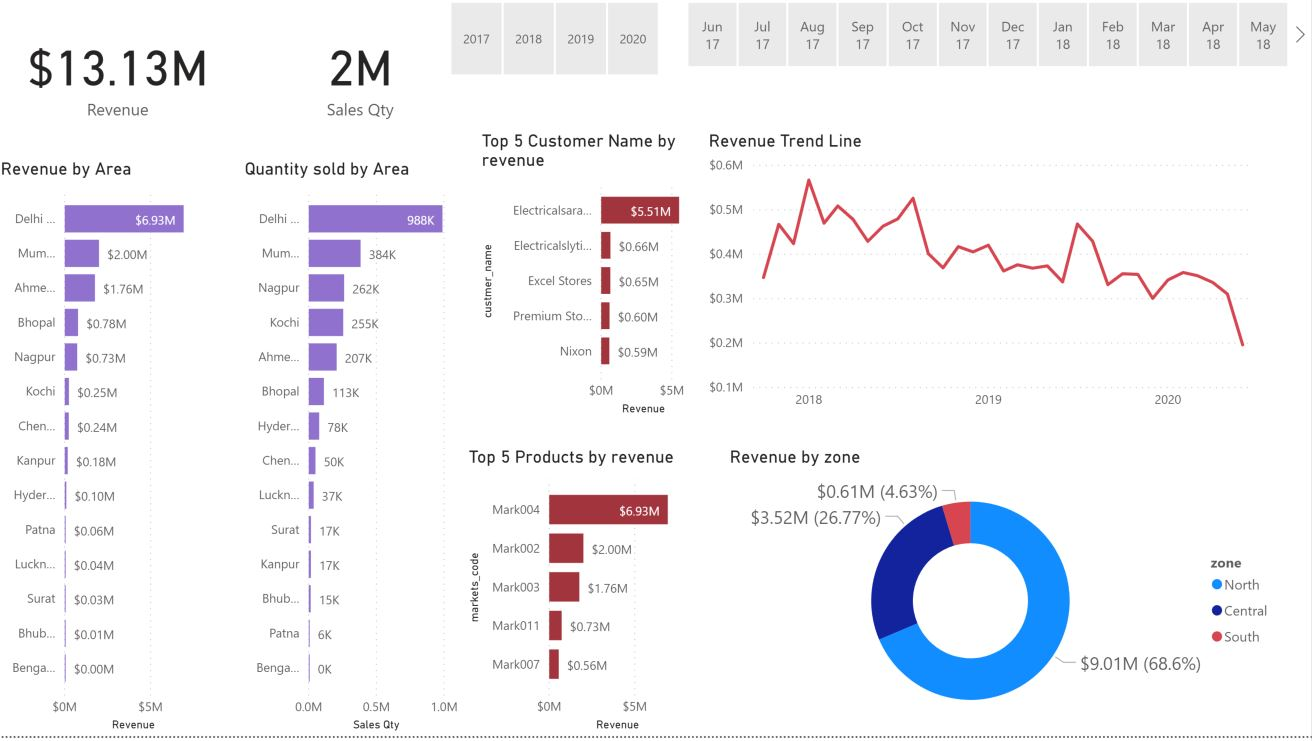

What the dashboard file says about the page in this screenshot:
{"tool":"powerbi","page":{"name":"Page 1","canvas":[1280,720],"ordinal":0},"visuals":[{"type":"card","fields":{"Values":["Base measures.Revenue"]},"box":[0,0,168.3,150.8],"z":0},{"type":"card","fields":{"Values":["Base measures.Sales Qty"]},"box":[168.3,0,168.3,150.8],"z":1000},{"type":"barChart","title":"Revenue by Customer","fields":{"Y":["Base measures.Revenue"],"Category":["sales customers.custmer_name"]},"box":[0,158.5,217.9,561.2],"z":2000},{"type":"barChart","title":"Revenue by Area","fields":{"Y":["Base measures.Revenue"],"Category":["sales markets.markets_name"]},"box":[0,158.5,217.9,561.2],"z":3000},{"type":"barChart","title":"Quantity sold by Area","fields":{"Category":["sales markets.markets_name"],"Y":["Base measures.Sales Qty"]},"box":[237.3,158.5,217.9,561.2],"z":4000},{"type":"slicer","fields":{"Values":["sales date.year"]},"box":[336.5,0,262.6,83.6],"z":5000},{"type":"slicer","fields":{"Values":["sales date.cy_date"]},"box":[599.1,0,632.2,75.9],"z":5001},{"type":"barChart","title":"Top 5 Customer Name by revenue","fields":{"Y":["Base measures.Revenue"],"Category":["sales customers.custmer_name"]},"box":[467.8,131.3,220.8,281.1],"z":5002},{"type":"barChart","title":"Top 5 Products by revenue","fields":{"Y":["Base measures.Revenue"],"Category":["sales markets.markets_code"]},"box":[455.2,438.7,233.4,281.1],"z":5003},{"type":"lineChart","title":"Revenue Trend Line","fields":{"Category":["sales date.cy_date"],"Y":["Base measures.Revenue"]},"box":[689,131,542,281],"z":5004},{"type":"donutChart","fields":{"Category":["sales markets.zone"],"Y":["Base measures.Revenue"]},"box":[709.1,438.7,542.7,281.1],"z":5005}]}

Visuals, with their boxes in screenshot pixels (x1, y1, x2, y2), scaled from the page's 1280x720 canvas onto the 1312x741 screenshot:
card - Base measures.Revenue: x1=0, y1=0, x2=173, y2=155
card - Base measures.Sales Qty: x1=173, y1=0, x2=345, y2=155
"Revenue by Customer" barChart: x1=0, y1=163, x2=223, y2=740
"Revenue by Area" barChart: x1=0, y1=163, x2=223, y2=740
"Quantity sold by Area" barChart: x1=243, y1=163, x2=467, y2=740
slicer - sales date.year: x1=345, y1=0, x2=614, y2=86
slicer - sales date.cy_date: x1=614, y1=0, x2=1262, y2=78
"Top 5 Customer Name by revenue" barChart: x1=479, y1=135, x2=706, y2=424
"Top 5 Products by revenue" barChart: x1=467, y1=451, x2=706, y2=740
"Revenue Trend Line" lineChart: x1=706, y1=135, x2=1262, y2=424
donutChart - sales markets.zone x Base measures.Revenue: x1=727, y1=451, x2=1283, y2=740
